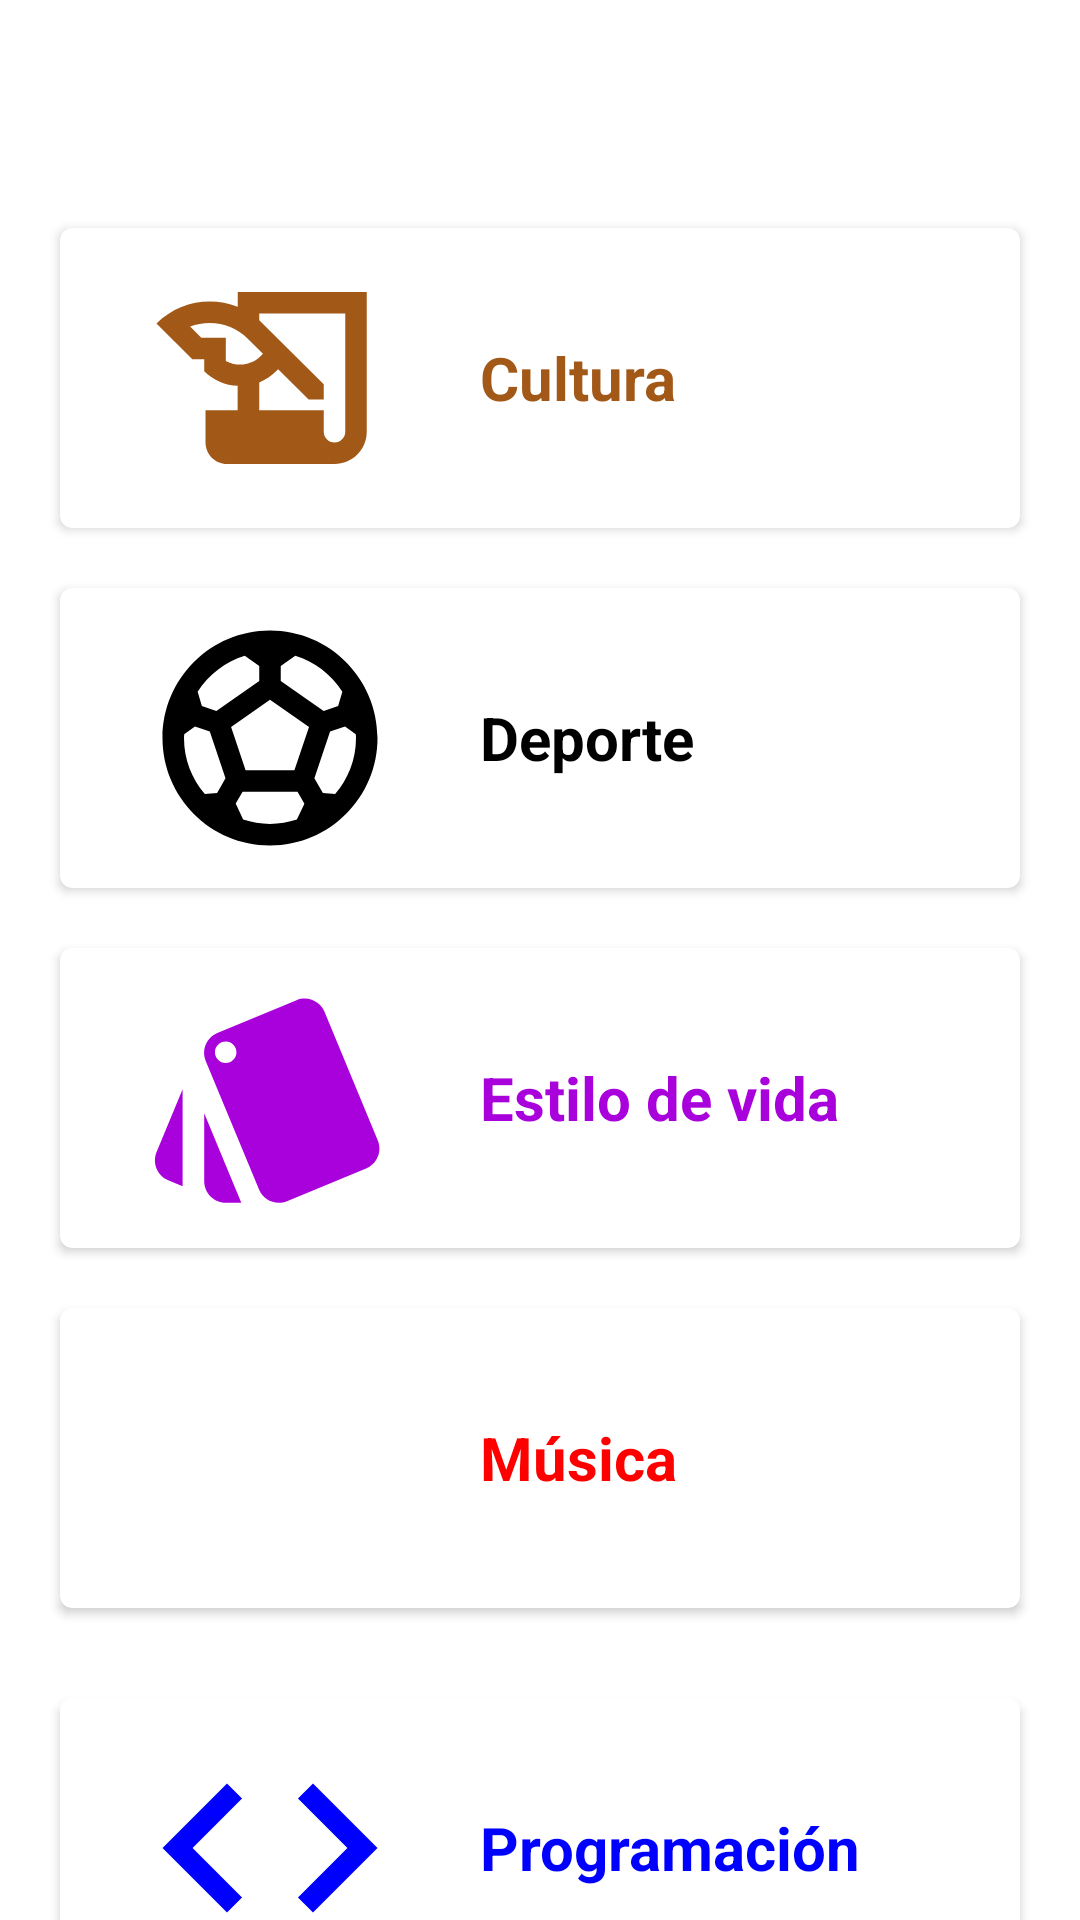

Icons on this 1080px×1920px Android screen, each with its box as (x1, y1, x2, y2):
category culture: (156, 292, 367, 464)
category lifestyle: (155, 998, 380, 1203)
category sports: (162, 630, 378, 846)
